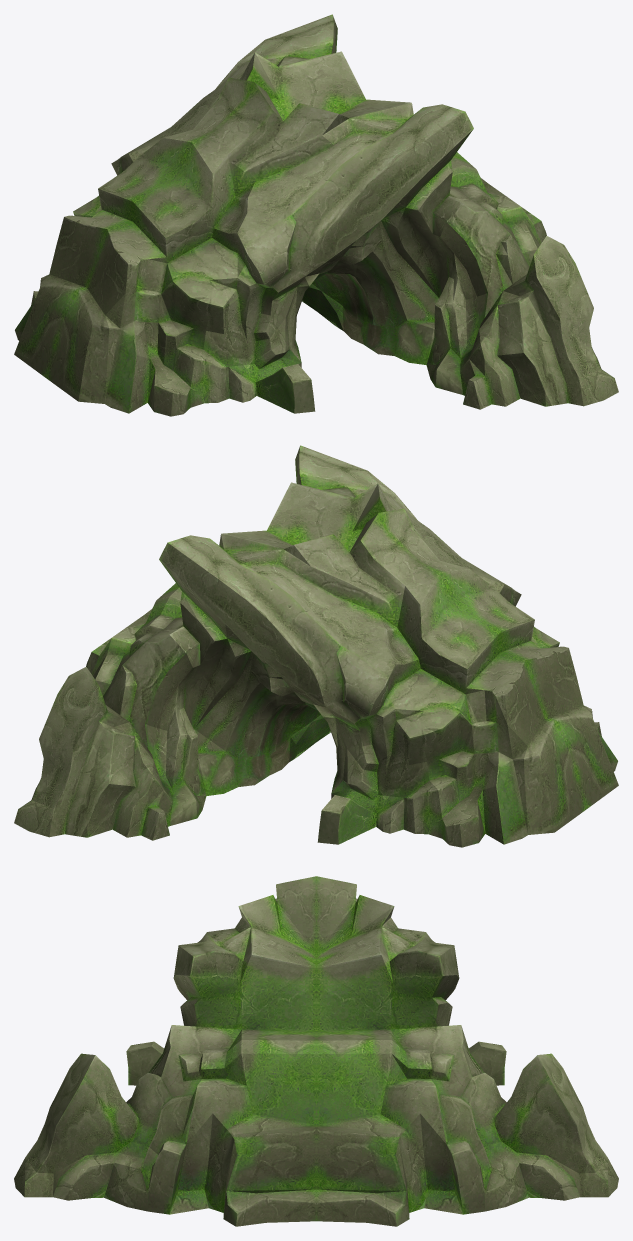
The model's file is stone46.FBX.
3 views of the same model, one above another, from view 1: azimuth 30°, elevation 25°; view 2: azimuth 150°, elevation 25°; view 3: azimuth 270°, elevation 25° (orthographic). The views are drawn at different scales.
Visible parts, largest first — view 1: stone46; view 2: stone46; view 3: stone46.
Boxes of the visible parts, left/top/right/bottom form: stone46: left=14, top=14, right=618, bottom=416; stone46: left=14, top=445, right=618, bottom=847; stone46: left=14, top=876, right=618, bottom=1226.
Bounding box in the file's own units: 2853 × 1392 × 3355.
